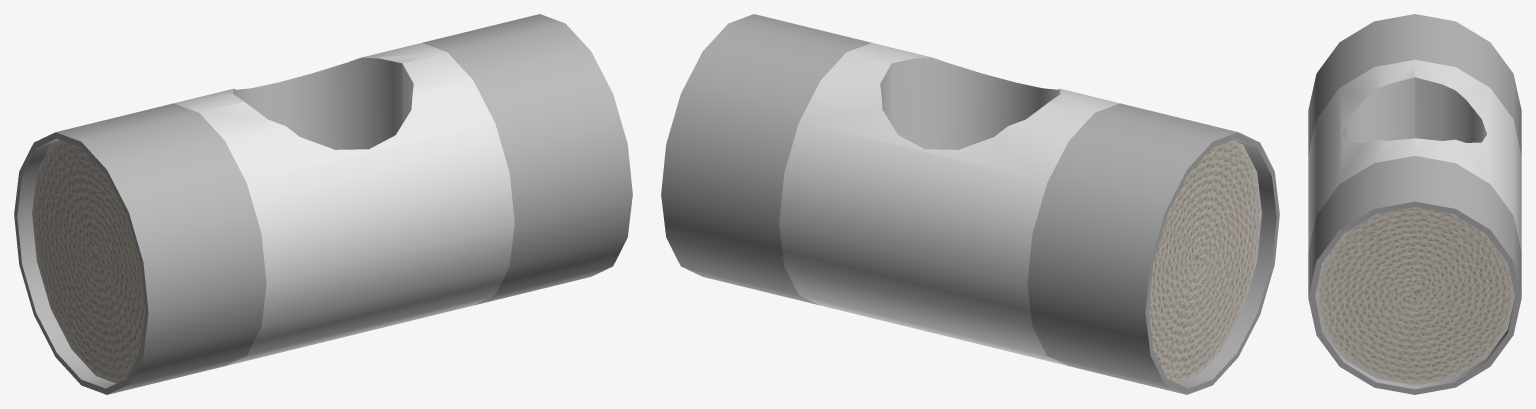
Rendered from Filter.fbx.
3 renders of one model, left to right at view 1: azimuth 30°, elevation 25°; view 2: azimuth 150°, elevation 25°; view 3: azimuth 270°, elevation 25°, orthographic. The views are drawn at different scales.
Visible parts, largest first — view 1: Filter; view 2: Filter; view 3: Filter.
Part boxes in pixels (x1,y1,x2,y2): Filter: [14, 14, 632, 394]; Filter: [661, 14, 1279, 394]; Filter: [1308, 14, 1521, 394].
Size of the model in its own units: 416 by 200 by 200.
